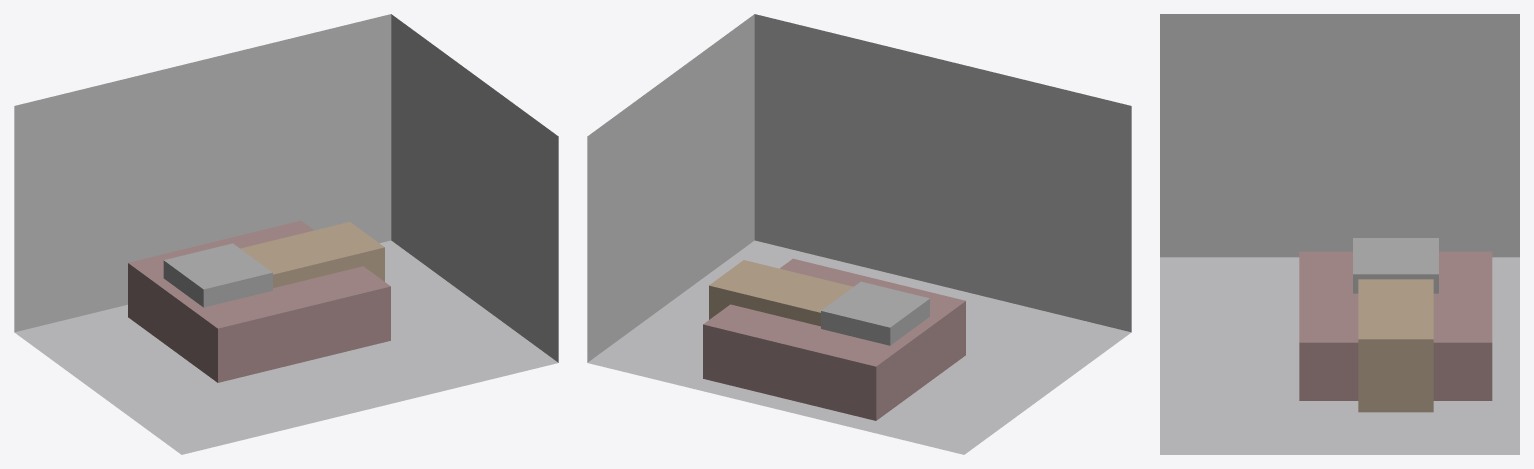
Rendered from current_layout.glb.
3 views of the same model, side by side, from view 1: azimuth 30°, elevation 25°; view 2: azimuth 150°, elevation 25°; view 3: azimuth 270°, elevation 25° (orthographic). The views are drawn at different scales.
Parts seen in each view (by area): view 1: room, bed, desk, wardrobe; view 2: room, bed, desk, wardrobe; view 3: room, bed, desk, wardrobe.
Boxes of the visible parts, x1=… form: room: x1=14, y1=14, x2=558, y2=454; bed: x1=128, y1=220, x2=390, y2=382; desk: x1=240, y1=222, x2=384, y2=288; wardrobe: x1=163, y1=243, x2=272, y2=307; room: x1=587, y1=14, x2=1131, y2=454; bed: x1=703, y1=258, x2=965, y2=420; desk: x1=709, y1=260, x2=853, y2=326; wardrobe: x1=821, y1=281, x2=929, y2=345; room: x1=1160, y1=14, x2=1519, y2=454; bed: x1=1299, y1=251, x2=1492, y2=400; desk: x1=1358, y1=279, x2=1433, y2=412; wardrobe: x1=1353, y1=238, x2=1438, y2=293.
Bounding box in the file's own units: 4.36 × 2.5 × 3.35.
